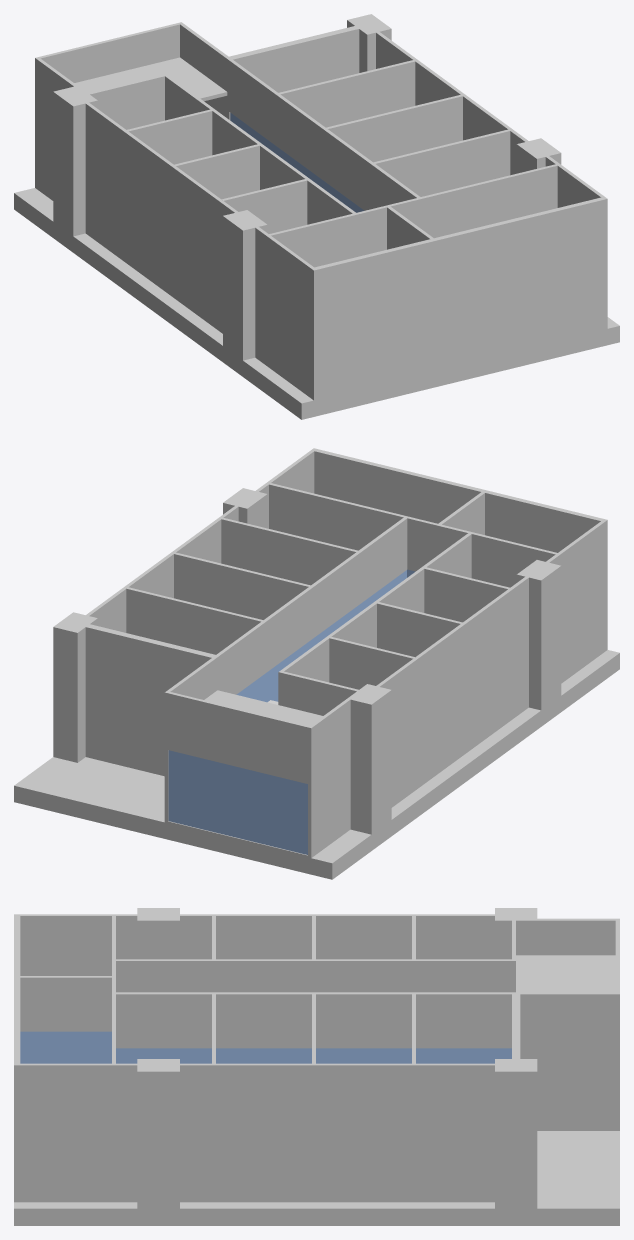
Rendered from depa.gltf.
3 views of the same model, one above another, from view 1: azimuth 30°, elevation 25°; view 2: azimuth 150°, elevation 25°; view 3: azimuth 270°, elevation 25° (orthographic). The views are drawn at different scales.
Visible parts, largest first — view 1: instance_93, instance_88.001, instance_87.002, instance_92, instance_87.004, instance_87.001, COLUMNAS.002, COLUMNAS.001, instance_88, instance_87.003, SketchUp, COLUMNAS (+3 smaller); view 2: instance_93, instance_87.004, instance_92, instance_87.002, instance_88, instance_91, instance_87.001, COLUMNAS.001, COLUMNAS.002, COLUMNAS, instance_87.003, instance_90 (+3 smaller); view 3: instance_87.003, instance_93, instance_92, instance_87, instance_87.004, instance_87.002, instance_90, instance_87.001, COLUMNAS, COLUMNAS.003, SketchUp, COLUMNAS.002 (+2 smaller).
Boxes of the visible parts, x1=… form: instance_93: x1=88, y1=27, x2=557, y2=267; instance_88.001: x1=317, y1=203, x2=604, y2=395; instance_87.002: x1=85, y1=102, x2=237, y2=333; instance_92: x1=14, y1=188, x2=619, y2=419; instance_87.004: x1=35, y1=22, x2=356, y2=200; instance_87.001: x1=255, y1=227, x2=313, y2=397; COLUMNAS.002: x1=223, y1=210, x2=267, y2=360; COLUMNAS.001: x1=53, y1=85, x2=97, y2=236; instance_88: x1=311, y1=196, x2=607, y2=400; instance_87.003: x1=376, y1=32, x2=528, y2=175; SketchUp: x1=74, y1=57, x2=227, y2=101; COLUMNAS: x1=347, y1=14, x2=391, y2=72; instance_93: x1=88, y1=483, x2=557, y2=715; instance_87.004: x1=85, y1=625, x2=350, y2=857; instance_92: x1=14, y1=650, x2=619, y2=879; instance_87.002: x1=376, y1=576, x2=528, y2=807; instance_88: x1=311, y1=448, x2=607, y2=651; instance_91: x1=168, y1=750, x2=307, y2=854; instance_87.001: x1=546, y1=521, x2=604, y2=683; COLUMNAS.001: x1=347, y1=684, x2=391, y2=834; COLUMNAS.002: x1=516, y1=560, x2=561, y2=710; COLUMNAS: x1=53, y1=612, x2=97, y2=762; instance_87.003: x1=86, y1=506, x2=238, y2=632; instance_90: x1=236, y1=569, x2=415, y2=702; instance_87.003: x1=180, y1=1063, x2=494, y2=1202; instance_93: x1=20, y1=916, x2=515, y2=1063; instance_92: x1=14, y1=1131, x2=619, y2=1225; instance_87: x1=20, y1=1063, x2=137, y2=1202; instance_87.004: x1=516, y1=918, x2=619, y2=1130; instance_87.002: x1=180, y1=914, x2=494, y2=959; instance_90: x1=20, y1=1031, x2=511, y2=1063; instance_87.001: x1=20, y1=914, x2=137, y2=975; COLUMNAS: x1=495, y1=1059, x2=537, y2=1208; COLUMNAS.003: x1=137, y1=1059, x2=179, y2=1208; SketchUp: x1=516, y1=955, x2=615, y2=992; COLUMNAS.002: x1=137, y1=908, x2=179, y2=959.
Bounding box in the file's own units: 358 × 157 × 561.
